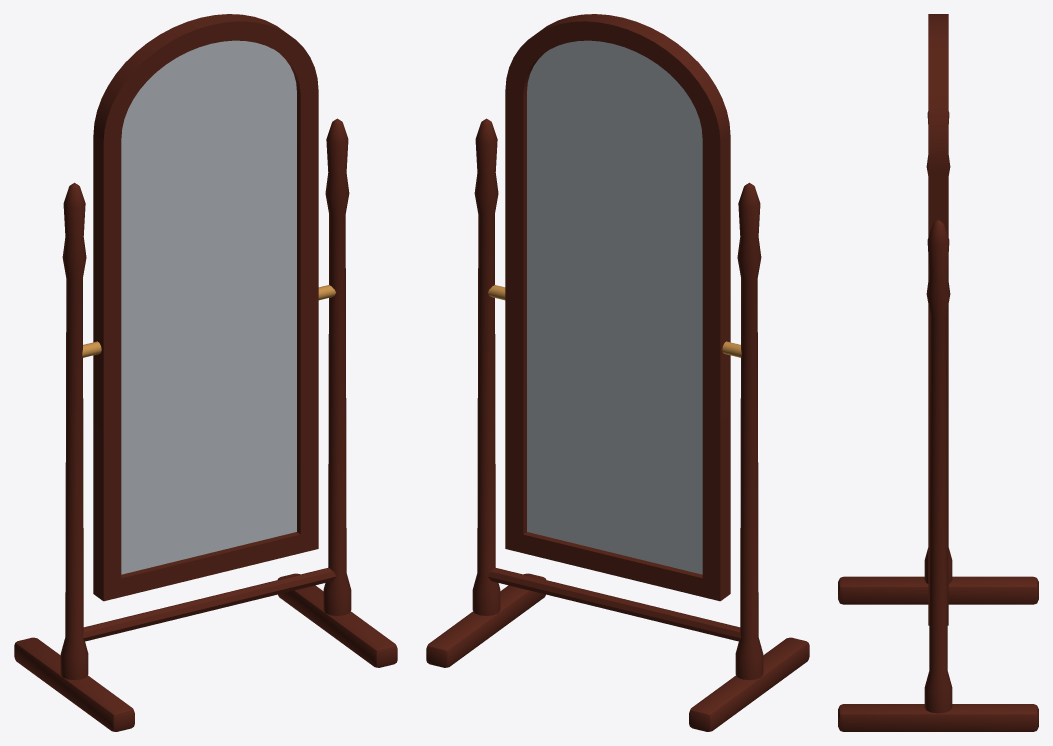
File: Mirror.glb
3 views of the same model, side by side, from view 1: azimuth 30°, elevation 25°; view 2: azimuth 150°, elevation 25°; view 3: azimuth 270°, elevation 25° (orthographic).
Visible parts, largest first — view 1: Mirror_Glass, Mirror_Frame, Mirror_Stand; view 2: Mirror_Glass, Mirror_Frame, Mirror_Stand; view 3: Mirror_Stand, Mirror_Frame.
Boxes of the visible parts, x1=… form: Mirror_Glass: x1=121, y1=40, x2=296, y2=574; Mirror_Frame: x1=93, y1=14, x2=318, y2=601; Mirror_Stand: x1=14, y1=118, x2=397, y2=731; Mirror_Glass: x1=527, y1=40, x2=702, y2=574; Mirror_Frame: x1=505, y1=14, x2=730, y2=601; Mirror_Stand: x1=426, y1=118, x2=809, y2=731; Mirror_Stand: x1=838, y1=111, x2=1038, y2=731; Mirror_Frame: x1=928, y1=14, x2=948, y2=625.
Size of the model in its own units: 0.72 by 1.54 by 0.44.
